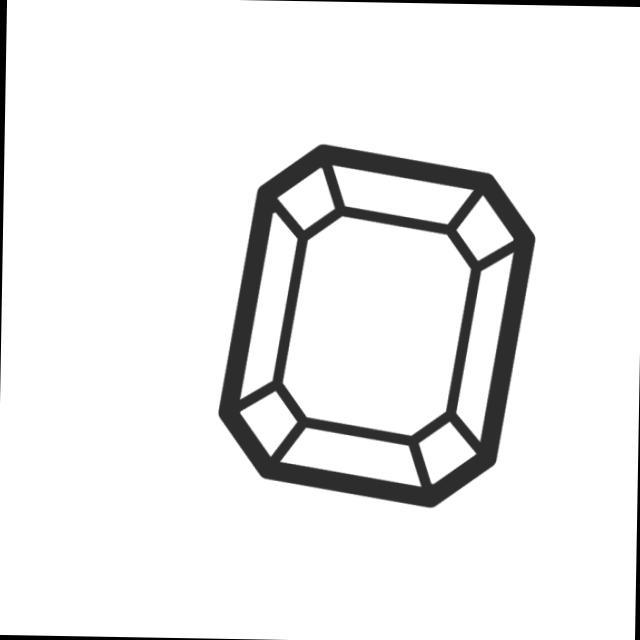diamond: (210, 134, 547, 517)
